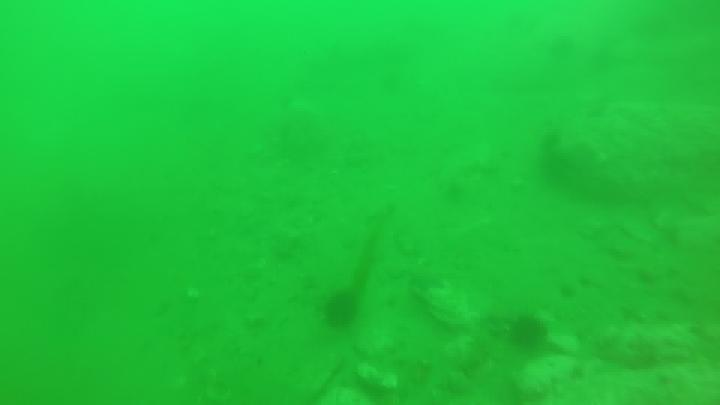echinus: (512, 314, 553, 346), (329, 292, 361, 329)
